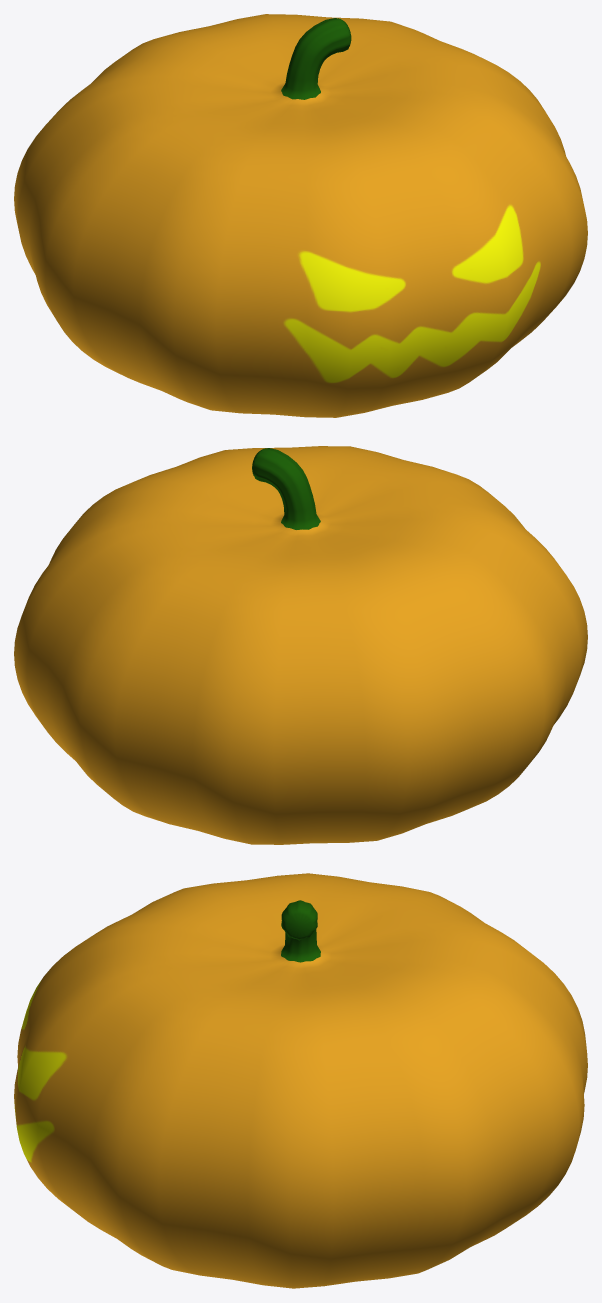
The model's file is jackoFBX.fbx.
The picture shows the model from 3 angles, top to bottom: view 1: azimuth 30°, elevation 25°; view 2: azimuth 150°, elevation 25°; view 3: azimuth 270°, elevation 25°; orthographic projection. The views are drawn at different scales.
Parts seen in each view (by area): view 1: pumpkin:pSphere1; view 2: pumpkin:pSphere1; view 3: pumpkin:pSphere1.
Part boxes in pixels (x1,y1,x2,y2): pumpkin:pSphere1: [14, 14, 587, 417]; pumpkin:pSphere1: [14, 446, 587, 844]; pumpkin:pSphere1: [14, 873, 587, 1288].
Size of the model in its own units: 8.69 by 5.3 by 8.42.
